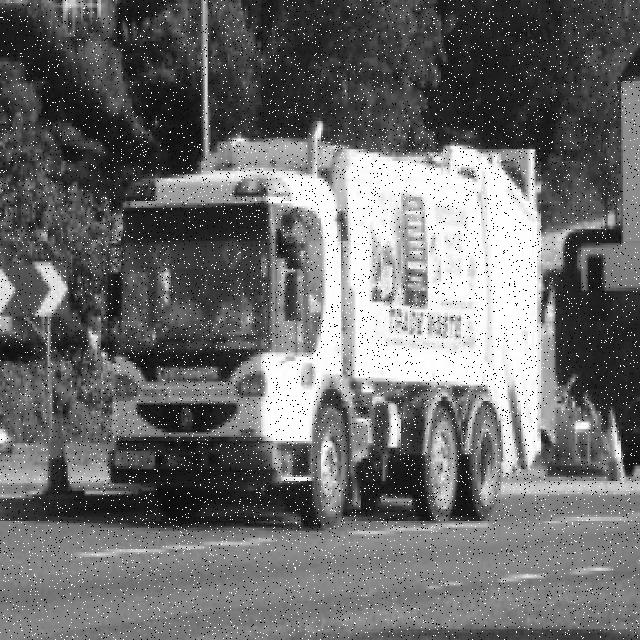Garbage Truck: (104, 124, 542, 530)
